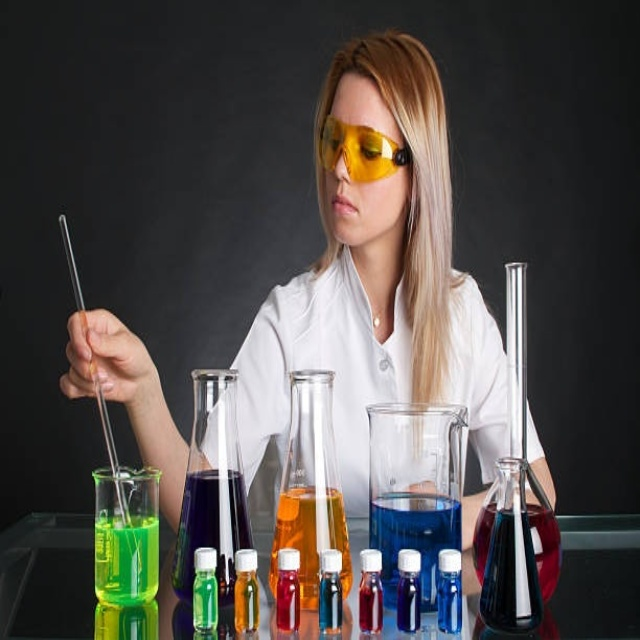Gafas: (320, 116, 411, 183)
Sin_guantes: (62, 308, 154, 405)
Sin_mascara: (325, 189, 366, 240)
